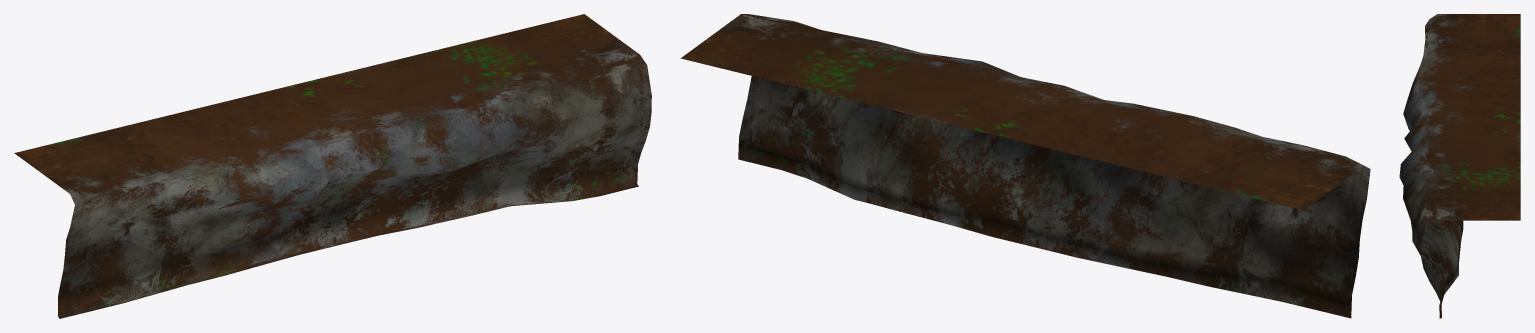
The model's file is Cliff_2-2.fbx.
The picture shows the model from 3 angles, left to right: view 1: azimuth 30°, elevation 25°; view 2: azimuth 150°, elevation 25°; view 3: azimuth 270°, elevation 25°; orthographic projection. The views are drawn at different scales.
Visible parts, largest first — view 1: Cliff_S1; view 2: Cliff_S1; view 3: Cliff_S1.
Part boxes in pixels (left/top/right/bottom): Cliff_S1: left=14, top=14, right=651, bottom=318; Cliff_S1: left=680, top=14, right=1370, bottom=318; Cliff_S1: left=1399, top=14, right=1520, bottom=318.
Bounding box in the file's own units: 2205 × 489 × 545.
Materials: 1 (1 with a texture image).
